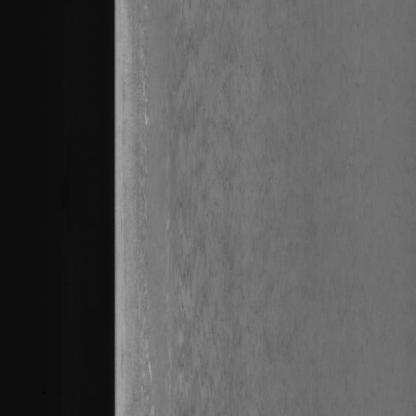silk_spot: (160, 6, 279, 409)
